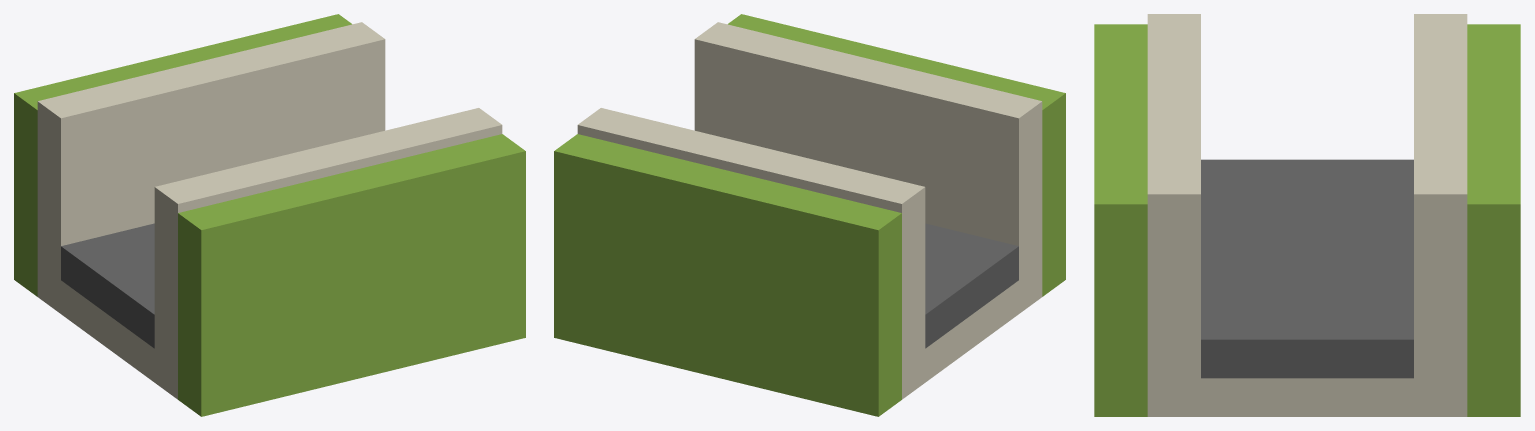
The model's file is roadTile_184.fbx.
3 renders of one model, left to right at view 1: azimuth 30°, elevation 25°; view 2: azimuth 150°, elevation 25°; view 3: azimuth 270°, elevation 25°, orthographic. The views are drawn at different scales.
Visible parts, largest first — view 1: roadTile_184; view 2: roadTile_184; view 3: roadTile_184.
Part boxes in pixels (left/top/right/bottom): roadTile_184: left=14, top=14, right=525, bottom=416; roadTile_184: left=554, top=14, right=1065, bottom=416; roadTile_184: left=1094, top=14, right=1520, bottom=416.
Bounding box in the file's own units: 118 × 68.11 × 118.
